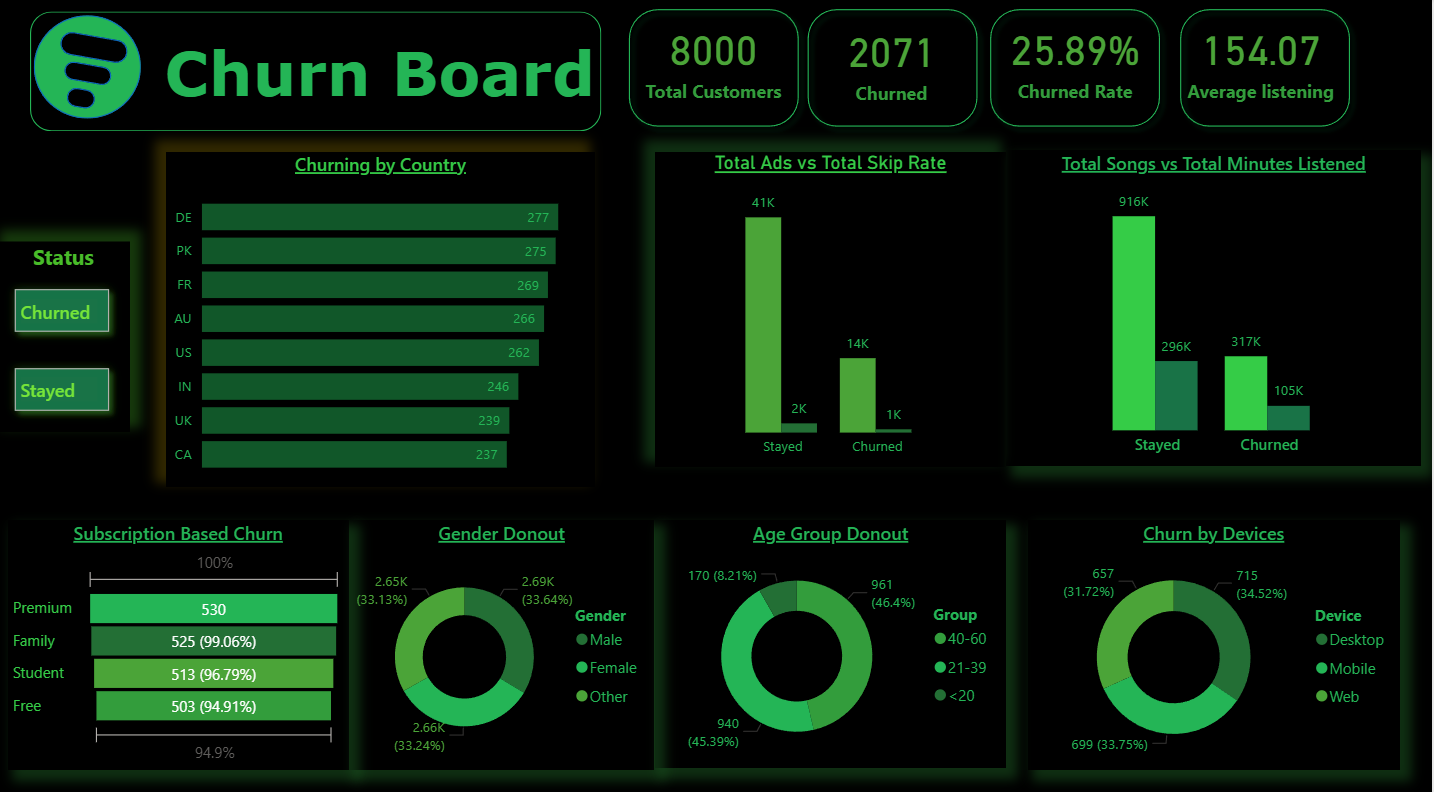

Layout of this report page (visuals, bound fields, positions):
{"tool":"powerbi","page":{"name":"Page 1","canvas":[1280,720],"ordinal":0},"visuals":[{"type":"shape","box":[555.8,0,169.3,122.7],"z":0,"group":"g2"},{"type":"shape","box":[714.1,0,169.3,122.7],"z":0,"group":"g3"},{"type":"shape","box":[877.6,0,169.3,122.7],"z":0,"group":"g4"},{"type":"shape","box":[34.8,14.7,95.6,92],"z":0,"group":"g6"},{"type":"donutChart","title":"Gender Donout","fields":{"Category":["spotify_churn_dataset.gender"],"Y":["CountNonNull(spotify_churn_dataset.Status)"]},"box":[315.3,463.8,272.4,222.1],"z":0},{"type":"card","fields":{"Values":["_Measures.Total Customers"]},"box":[566.4,0.1,146.8,107],"z":1000,"group":"g2"},{"type":"card","fields":{"Values":["_Measures.Churned_rate"]},"box":[869.9,0.1,185.2,107],"z":1000,"group":"g4"},{"type":"card","fields":{"Values":["_Measures.Average listening"]},"box":[1028.2,0.4,197.5,106.7],"z":1000,"group":"g1"},{"type":"shape","box":[58.3,78.5,37.2,20.9],"z":1000,"group":"g6"},{"type":"clusteredColumnChart","title":"Total Songs vs Total Minutes Listened","fields":{"Category":["spotify_churn_dataset.Status"],"Y":["Sum(spotify_churn_dataset.listening_time)","Sum(spotify_churn_dataset.songs_played_per_day)"]},"box":[900.6,134.7,369.6,281.6],"z":1000},{"type":"card","fields":{"Values":["_Measures.Churned Nu"]},"box":[727.6,2.5,141.1,106.7],"z":2000,"group":"g3"},{"type":"shape","box":[0,28.2,176.2,30.7],"z":2000,"group":"g6"},{"type":"barChart","title":"Churning by Country","fields":{"Category":["spotify_churn_dataset.country"],"Y":["_Measures.Churned Nu"]},"box":[152.1,136.2,381.6,299.4],"z":2000},{"type":"shape","box":[31,55.2,103,23.3],"z":3000,"group":"g6"},{"type":"donutChart","title":"Churn by Devices","fields":{"Category":["spotify_churn_dataset.device_type"],"Y":["_Measures.Churned Nu"]},"box":[919.5,464.2,331.7,222.6],"z":3000},{"type":"donutChart","title":"Age Group Donout","fields":{"Category":["Age_group.Group"],"Y":["_Measures.Churned Nu"]},"box":[587.7,463.8,312.9,220.9],"z":4000},{"type":"funnel","title":"Subscription Based Churn","fields":{"Category":["spotify_churn_dataset.subscription_type"],"Y":["_Measures.Churned"]},"box":[11.1,464.2,303.9,222.6],"z":5000},{"type":"clusteredColumnChart","title":"Total Ads vs Total Skip Rate","fields":{"Category":["spotify_churn_dataset.Status"],"Y":["Sum(spotify_churn_dataset.ads_listened_per_week)","Sum(spotify_churn_dataset.skip_rate)"]},"box":[587.8,135.8,312.8,280.5],"z":6000},{"type":"group","id":"g1","title":"Group 1","box":[1028.2,0,197.5,122.7],"z":7000},{"type":"group","id":"g2","title":"Group 2","box":[555.8,0,169.3,122.7],"z":8000},{"type":"group","id":"g3","title":"Group 3","box":[714.1,0,169.3,122.7],"z":9000},{"type":"group","id":"g4","title":"Group 4","box":[869.9,0,185.3,122.7],"z":10000},{"type":"group","id":"g5","title":"Group 6","box":[0,11,539.9,106.7],"z":11000},{"type":"advancedSlicerVisual","fields":{"Values":["spotify_churn_dataset.Status"]},"box":[0,216,120.2,169.3],"z":12000},{"type":"shape","box":[1046.3,0,169.3,122.7],"z":13000,"group":"g1"},{"type":"group","id":"g6","title":"Group 5","box":[0,14.7,176.2,92],"z":13003,"group":"g5"},{"type":"shape","title":"Churn Board","box":[31,11,508.9,106.7],"z":13503,"group":"g5"}]}

Visuals, with their boxes in screenshot pixels (x1, y1, x2, y2), scaled from the page's 1280x720 canvas onto the 1434x792 screenshot:
shape: bbox=(623, 0, 812, 135)
shape: bbox=(800, 0, 990, 135)
shape: bbox=(983, 0, 1173, 135)
shape: bbox=(39, 16, 146, 117)
"Gender Donout" donutChart: bbox=(353, 510, 658, 754)
card - _Measures.Total Customers: bbox=(635, 0, 799, 118)
card - _Measures.Churned_rate: bbox=(975, 0, 1182, 118)
card - _Measures.Average listening: bbox=(1152, 0, 1373, 118)
shape: bbox=(65, 86, 107, 109)
"Total Songs vs Total Minutes Listened" clusteredColumnChart: bbox=(1009, 148, 1423, 458)
card - _Measures.Churned Nu: bbox=(815, 3, 973, 120)
shape: bbox=(0, 31, 197, 65)
"Churning by Country" barChart: bbox=(170, 150, 598, 479)
shape: bbox=(35, 61, 150, 86)
"Churn by Devices" donutChart: bbox=(1030, 511, 1402, 755)
"Age Group Donout" donutChart: bbox=(658, 510, 1009, 753)
"Subscription Based Churn" funnel: bbox=(12, 511, 353, 755)
"Total Ads vs Total Skip Rate" clusteredColumnChart: bbox=(659, 149, 1009, 458)
"Group 1" group: bbox=(1152, 0, 1373, 135)
"Group 2" group: bbox=(623, 0, 812, 135)
"Group 3" group: bbox=(800, 0, 990, 135)
"Group 4" group: bbox=(975, 0, 1182, 135)
"Group 6" group: bbox=(0, 12, 605, 129)
advancedSlicerVisual - spotify_churn_dataset.Status: bbox=(0, 238, 135, 424)
shape: bbox=(1172, 0, 1362, 135)
"Group 5" group: bbox=(0, 16, 197, 117)
"Churn Board" shape: bbox=(35, 12, 605, 129)
